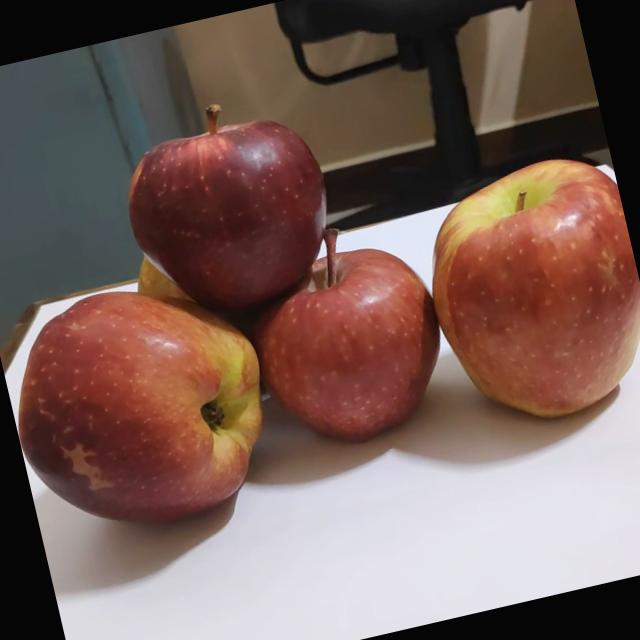apple: (0, 263, 296, 566), (402, 139, 640, 438), (108, 79, 358, 332), (222, 204, 460, 464), (114, 244, 196, 320)
